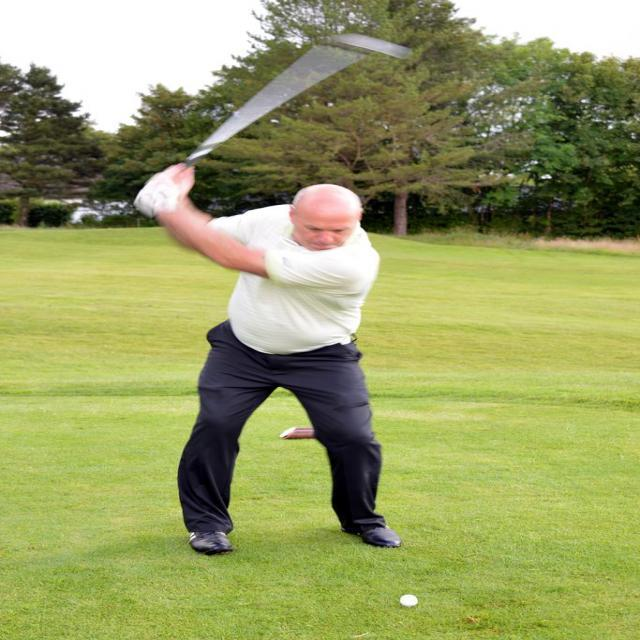GolfBall: (390, 588, 428, 613)
